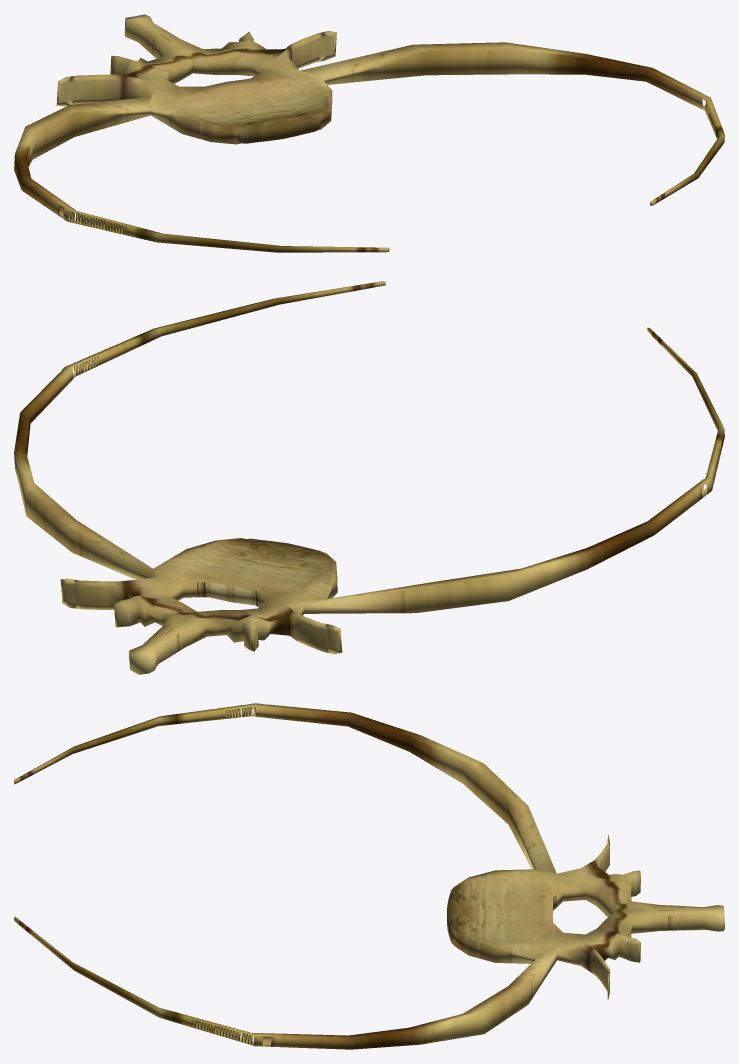
File: justSpine.fbx
3 views of the same model, one above another, from view 1: azimuth 30°, elevation 25°; view 2: azimuth 150°, elevation 25°; view 3: azimuth 270°, elevation 25° (orthographic). The views are drawn at different scales.
Parts seen in each view (by area): view 1: spineBake; view 2: spineBake; view 3: spineBake.
Part boxes in pixels (x1,y1,x2,y2): spineBake: (14, 14, 724, 252); spineBake: (14, 281, 724, 674); spineBake: (14, 703, 724, 1049).
Bounding box in the file's own units: 643 × 103 × 660.
1 material, 1 textured.
